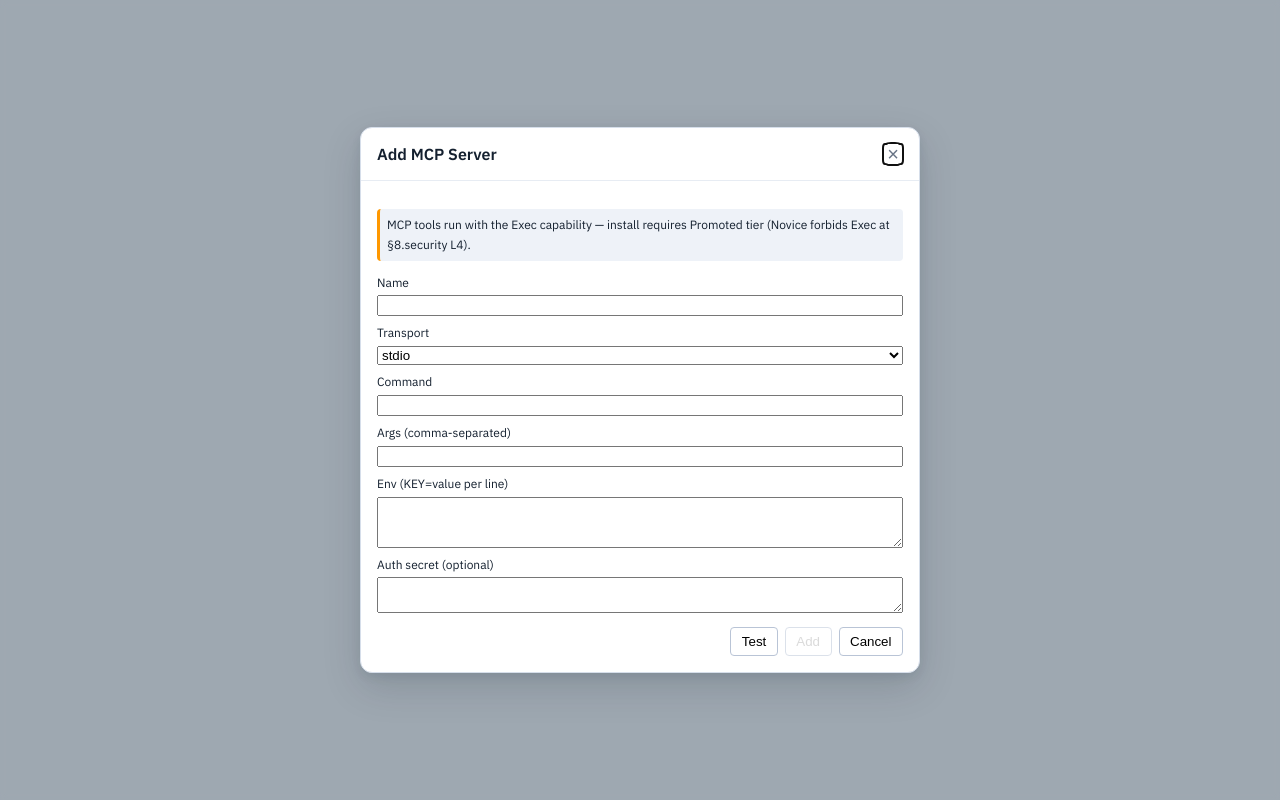
Test: MCPServerAddModal (M06.E) › validates_name_against_regex_disabling_submit_on_invalid
In the field with test id "mcp-add-name": x=640, y=306 [377,295,903,316], type "Invalid Name!"
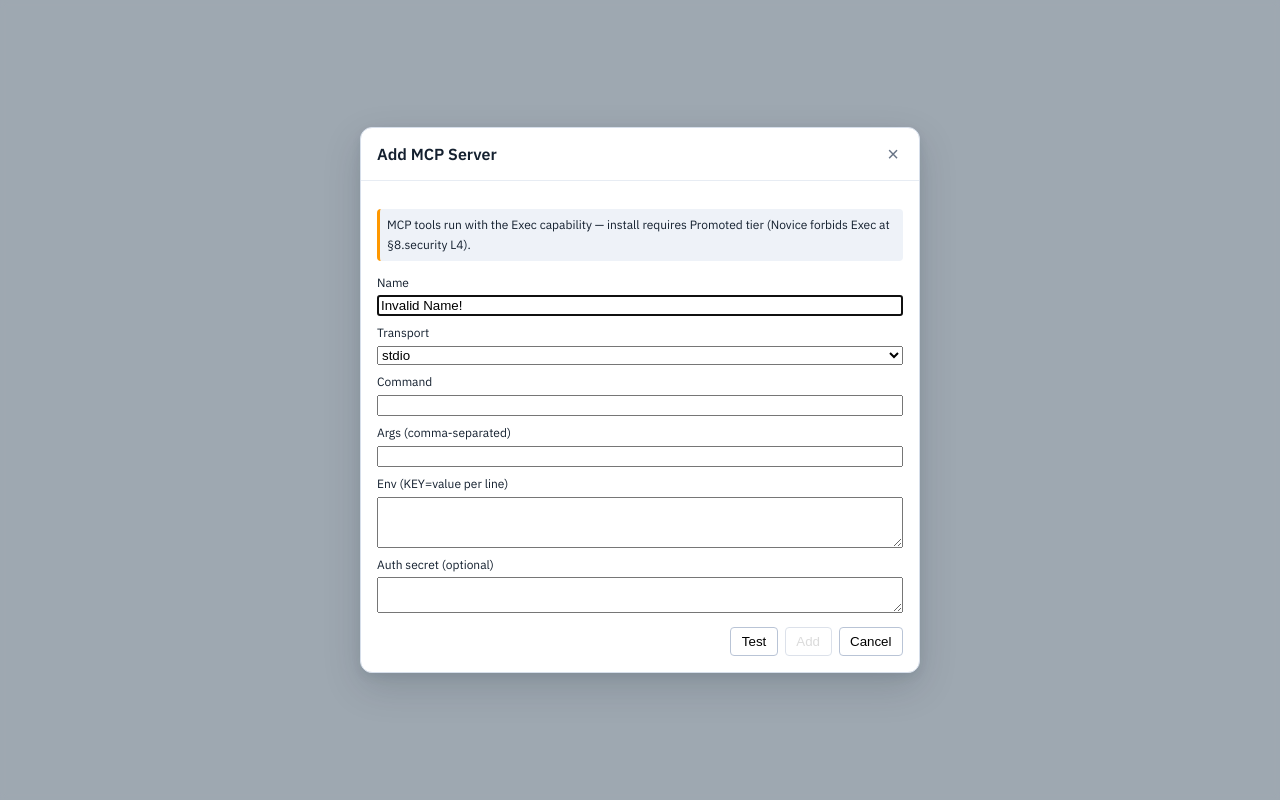
Expected: the button with test id "mcp-add-submit" is disabled, [785,627,832,656]
Replace the text in the field with test id "mcp-add-name" with "valid-name": x=640, y=306 [377,295,903,316]
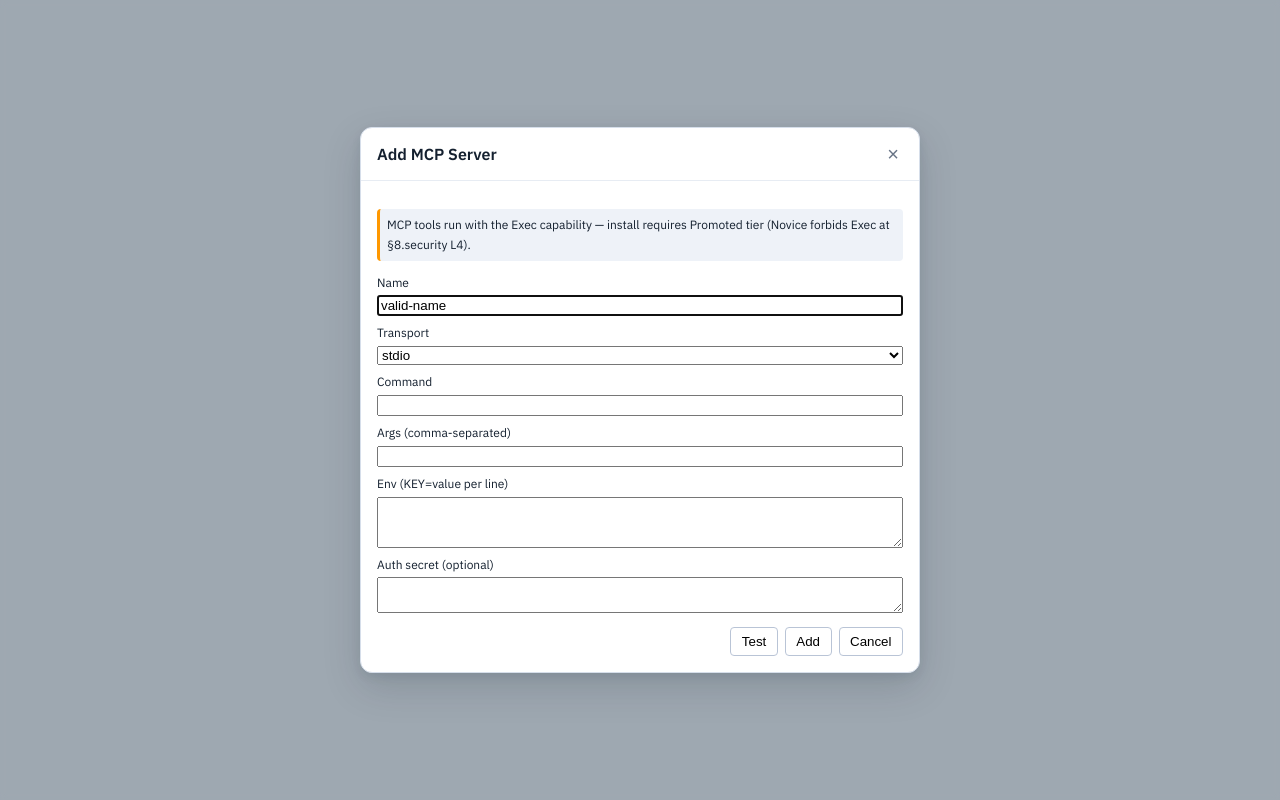
Now the button with test id "mcp-add-submit" is enabled, box [785,627,832,656]
